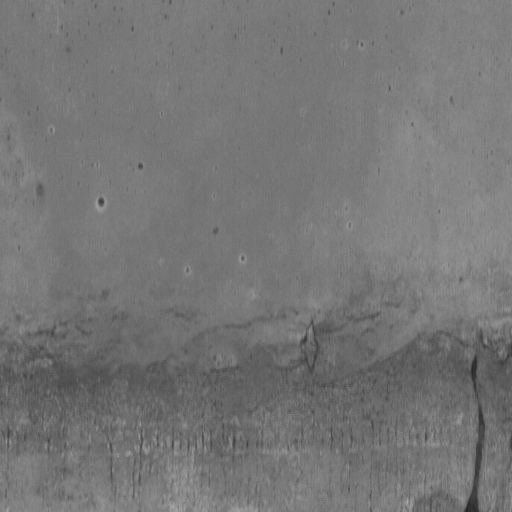zongxiangliewen: (462, 351, 486, 511)
